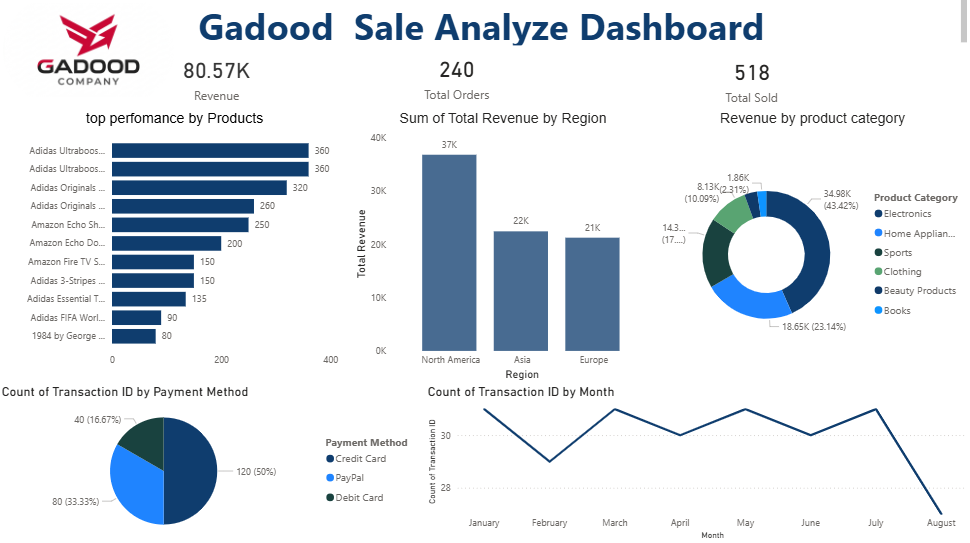

This screenshot's page, from the dashboard's own definition file:
{"tool":"powerbi","page":{"name":"Page 1","canvas":[1280,720],"ordinal":0},"visuals":[{"type":"clusteredBarChart","title":"          top perfomance  by Products","fields":{"Y":["Sum(Online Sales Data.Total Revenue)"],"Category":["Online Sales Data.Product Name"]},"box":[0,150,464.9,359.5],"z":0},{"type":"card","fields":{"Values":["Sum(Online Sales Data.Total Revenue)"]},"box":[206.7,61.7,163.3,88.3],"z":1000},{"type":"card","fields":{"Values":["CountNonNull(Online Sales Data.Transaction ID)"]},"box":[480,70,246.7,71.7],"z":2000},{"type":"card","fields":{"Values":["Sum(Online Sales Data.Units Sold)"]},"box":[910,70,162.5,78.8],"z":3000},{"type":"clusteredColumnChart","title":"                                     Sum of Total Revenue by Region","fields":{"Category":["Online Sales Data.Region"],"Y":["Sum(Online Sales Data.Total Revenue)"]},"box":[464.3,150,400,360],"z":4000},{"type":"lineChart","fields":{"Category":["Online Sales Data.Date.Variation.Date Hierarchy.Month"],"Y":["CountNonNull(Online Sales Data.Transaction ID)"]},"box":[560,510,720,210],"z":5000},{"type":"pieChart","fields":{"Category":["Online Sales Data.Payment Method"],"Y":["CountNonNull(Online Sales Data.Transaction ID)"]},"box":[0,510,560,210],"z":6000},{"type":"donutChart","title":" Revenue by product category","fields":{"Y":["Sum(Online Sales Data.Total Revenue)"],"Category":["Online Sales Data.Product Category"]},"box":[865,150,415,360],"z":7000},{"type":"textbox","box":[0,0,1280,70],"z":8000},{"type":"image","box":[6.7,0,225,141.7],"z":9000}]}

Visuals, with their boxes in screenshot pixels (x1, y1, x2, y2), scaled from the page's 1280x720 canvas onto the 970x543 screenshot:
"          top perfomance  by Products" clusteredBarChart: bbox(0, 113, 352, 384)
card - Sum(Online Sales Data.Total Revenue): bbox(157, 47, 280, 113)
card - CountNonNull(Online Sales Data.Transaction ID): bbox(364, 53, 551, 107)
card - Sum(Online Sales Data.Units Sold): bbox(690, 53, 813, 112)
"                                     Sum of Total Revenue by Region" clusteredColumnChart: bbox(352, 113, 655, 385)
lineChart - Online Sales Data.Date.Variation.Date Hierarchy.Month x CountNonNull(Online Sales Data.Transaction ID): bbox(424, 385, 969, 542)
pieChart - Online Sales Data.Payment Method x CountNonNull(Online Sales Data.Transaction ID): bbox(0, 385, 424, 542)
" Revenue by product category" donutChart: bbox(656, 113, 969, 385)
textbox: bbox(0, 0, 969, 53)
image: bbox(5, 0, 176, 107)
